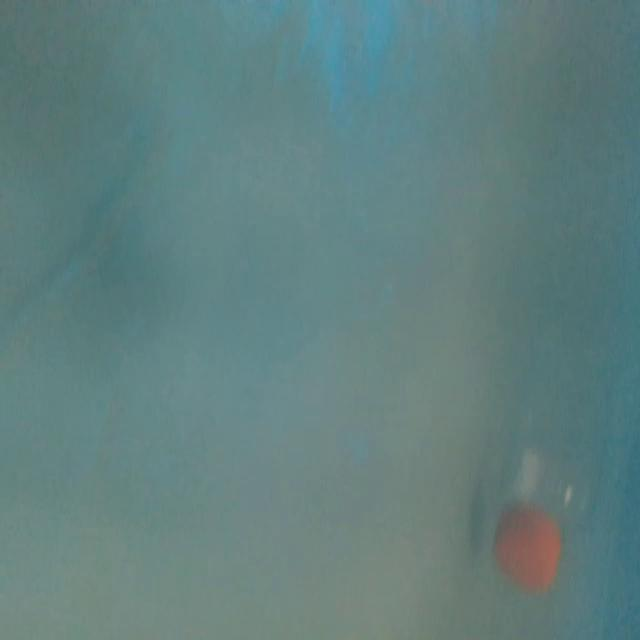plastic bottle: (487, 261, 623, 600)
